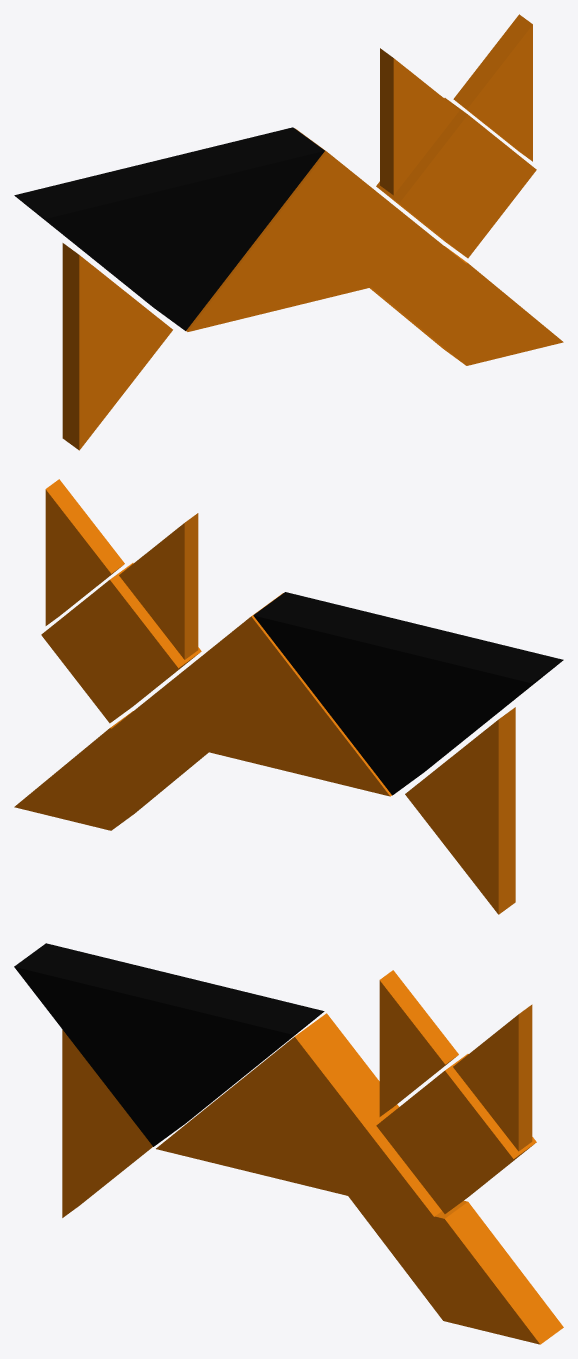
File: enemy_cat.fbx
3 renders of one model, top to bottom at view 1: azimuth 30°, elevation 25°; view 2: azimuth 150°, elevation 25°; view 3: azimuth 330°, elevation 25°, orthographic.
Parts seen in each view (by area): view 1: pCube1, pCube2, pCube6, pCube5, pCube7, pCube3, pCube4; view 2: pCube1, pCube2, pCube6, pCube5, pCube7, pCube4, pCube3; view 3: pCube1, pCube2, pCube7, pCube5, pCube6, pCube3, pCube4.
Boxes of the visible parts, box(x1,y1,x2,y2) form: pCube1: box(14, 127, 324, 330); pCube2: box(186, 128, 466, 331); pCube6: box(62, 243, 172, 450); pCube5: box(376, 98, 536, 258); pCube7: box(370, 246, 563, 365); pCube3: box(380, 48, 459, 195); pCube4: box(453, 14, 532, 161); pCube1: box(253, 592, 563, 795); pCube2: box(112, 593, 391, 796); pCube6: box(405, 707, 515, 914); pCube5: box(41, 563, 201, 723); pCube7: box(14, 711, 208, 830); pCube4: box(45, 479, 124, 625); pCube3: box(119, 513, 198, 659); pCube1: box(14, 943, 324, 1146); pCube2: box(156, 1013, 441, 1216); pCube7: box(348, 1196, 563, 1344); pCube5: box(376, 1054, 536, 1213); pCube6: box(62, 1029, 152, 1217); pCube3: box(379, 970, 458, 1116); pCube4: box(453, 1004, 532, 1151).
Size of the model in its own units: 5.44 by 3.2 by 0.5799.
